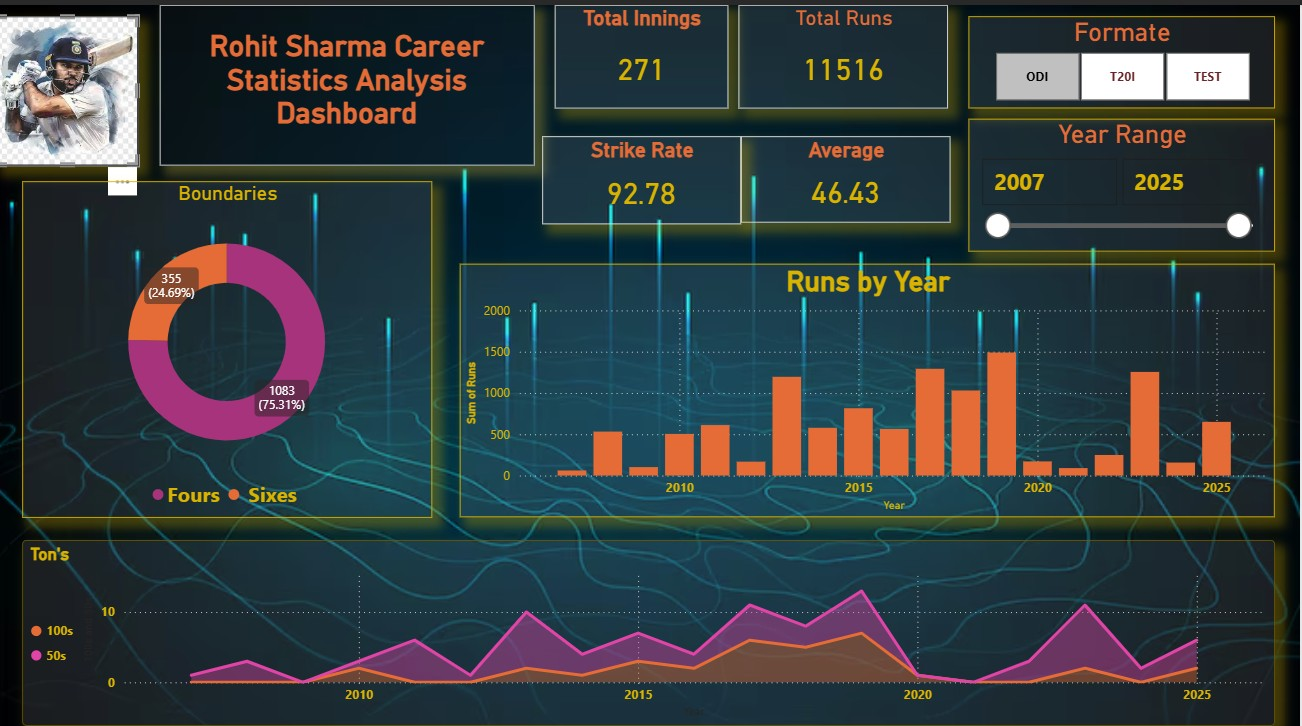

The page's visual inventory and layout, read from the dashboard file:
{"tool":"powerbi","page":{"name":"Page 1","canvas":[1280,720],"ordinal":0},"visuals":[{"type":"image","box":[0,11,140,146.8],"z":0},{"type":"textbox","box":[160.5,0,367.8,157.8],"z":1000},{"type":"card","title":"Total Innings","fields":{"Values":["Sum(overall.Innings)"]},"box":[548.9,0,170.2,101.5],"z":2000},{"type":"card","title":"Total Runs","fields":{"Values":["Sum(overall.Runs)"]},"box":[728.6,0,205.8,101.5],"z":3000},{"type":"card","title":"Average","fields":{"Values":["Avg(overall.Avg)"]},"box":[731.4,129,205.8,85.1],"z":4000},{"type":"card","title":"Strike Rate","fields":{"Values":["Avg(overall.SR)"]},"box":[536.5,129,194.9,86.4],"z":5000},{"type":"slicer","title":"Formate","fields":{"Values":["overall.Formate"]},"box":[955.1,11,300.5,90.6],"z":6000},{"type":"slicer","title":"Year Range","fields":{"Values":["overall.Year"]},"box":[954.6,111.7,300.6,130.1],"z":7000},{"type":"clusteredColumnChart","title":" Runs by Year","fields":{"Category":["overall.Year"],"Y":["Sum(overall.Runs)"]},"box":[455.2,254,800,249.1],"z":8000},{"type":"donutChart","title":"Boundaries","fields":{"Y":["Sum(overall.4s)","Sum(overall.6s)"]},"box":[26.1,172.9,402.1,330.7],"z":9000},{"type":"stackedAreaChart","title":"Ton''s","fields":{"Category":["overall.Year"],"Y":["Sum(overall.100)","Sum(overall.50)"]},"box":[26.1,525.6,1229.5,182.5],"z":9001}]}

Visuals, with their boxes in screenshot pixels (x1, y1, x2, y2), scaled from the page's 1280x720 canvas onto the 1302x726 screenshot:
image: detection(0, 11, 142, 159)
textbox: detection(163, 0, 537, 159)
"Total Innings" card: detection(558, 0, 731, 102)
"Total Runs" card: detection(741, 0, 950, 102)
"Average" card: detection(744, 130, 953, 216)
"Strike Rate" card: detection(546, 130, 744, 217)
"Formate" slicer: detection(972, 11, 1277, 102)
"Year Range" slicer: detection(971, 113, 1277, 244)
" Runs by Year" clusteredColumnChart: detection(463, 256, 1277, 507)
"Boundaries" donutChart: detection(27, 174, 436, 508)
"Ton''s" stackedAreaChart: detection(27, 530, 1277, 714)
